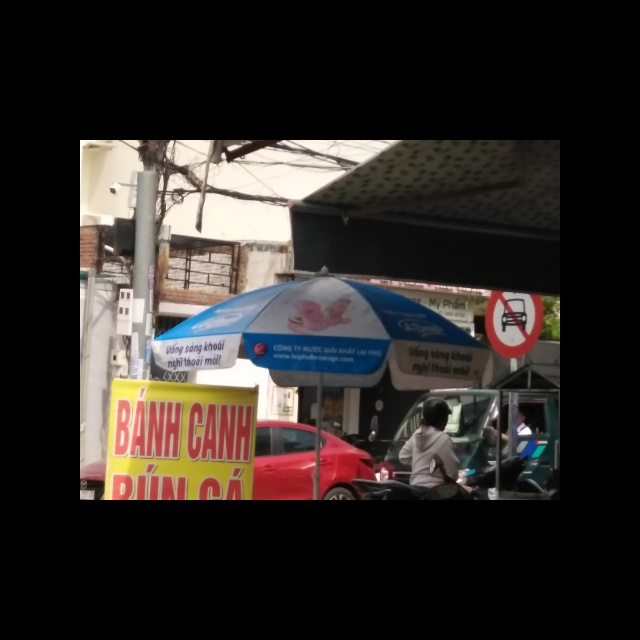Cấm xe ô tô: (481, 289, 544, 358)
